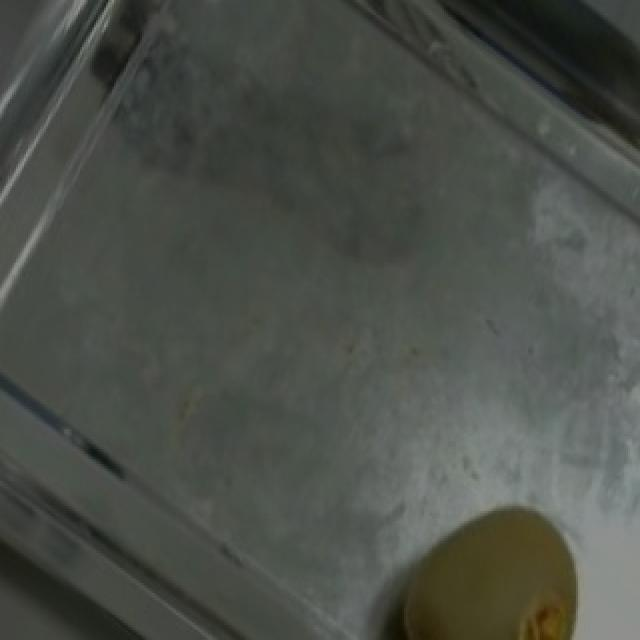Fruit: (362, 491, 608, 640)
